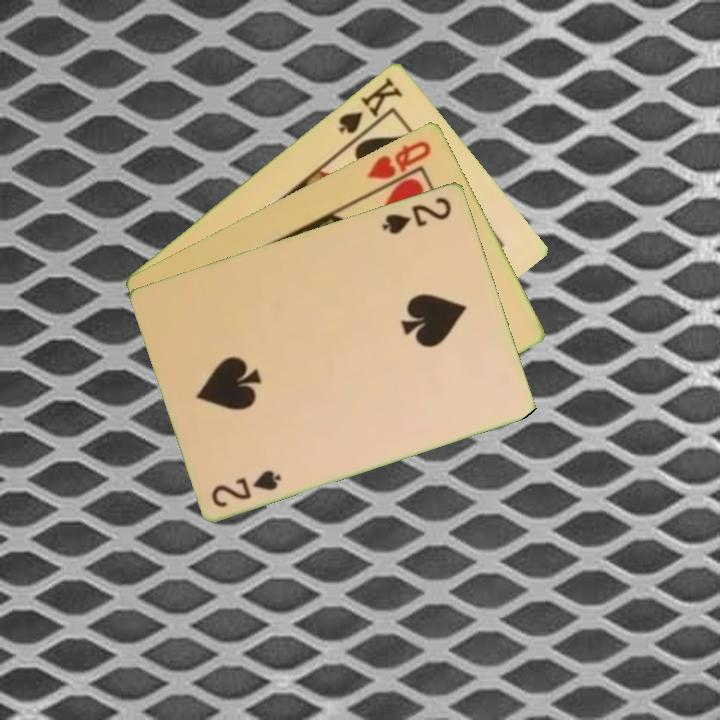2s: (378, 192, 455, 237), (208, 466, 285, 510)
Ks: (335, 72, 406, 136)
Qh: (363, 136, 435, 194)
